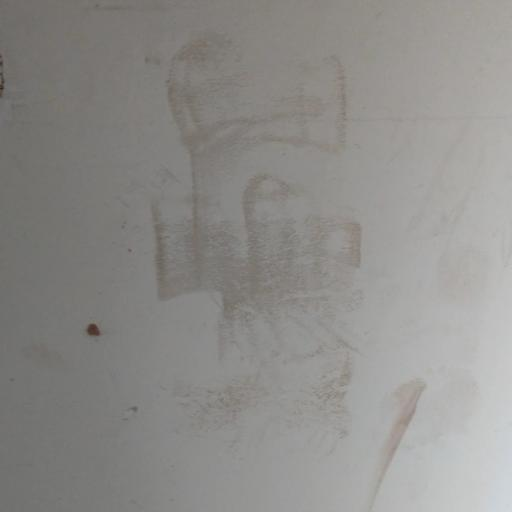stain: (139, 0, 369, 440), (369, 359, 426, 512), (70, 292, 101, 370)
